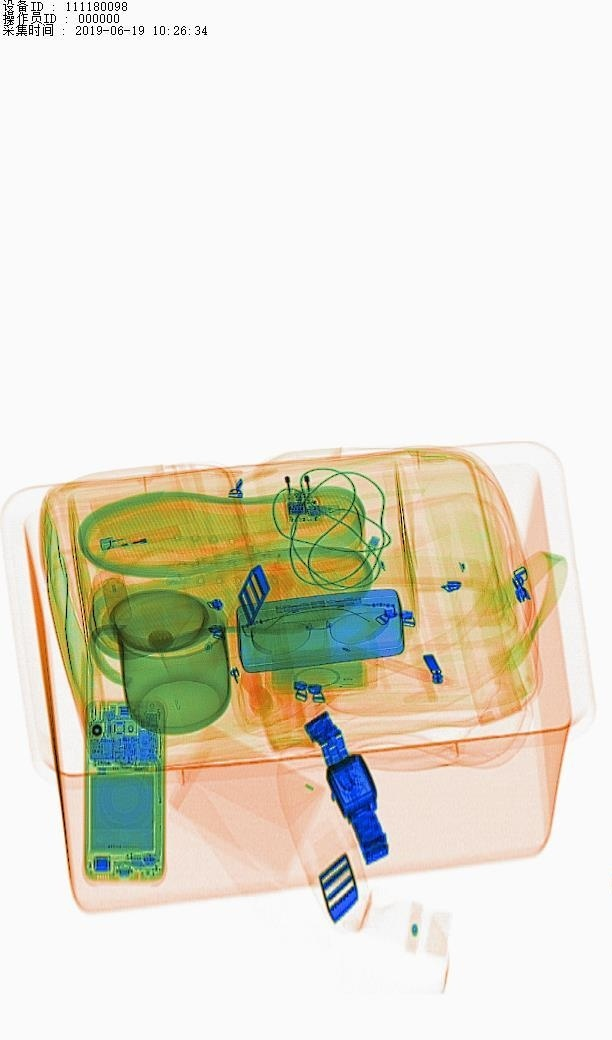NonmetallicFire: (100, 511, 199, 564)
